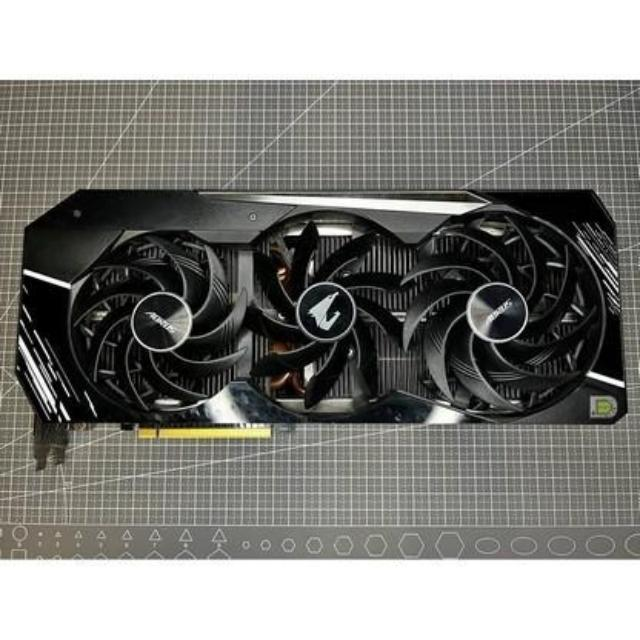GPU: (23, 178, 634, 438)
